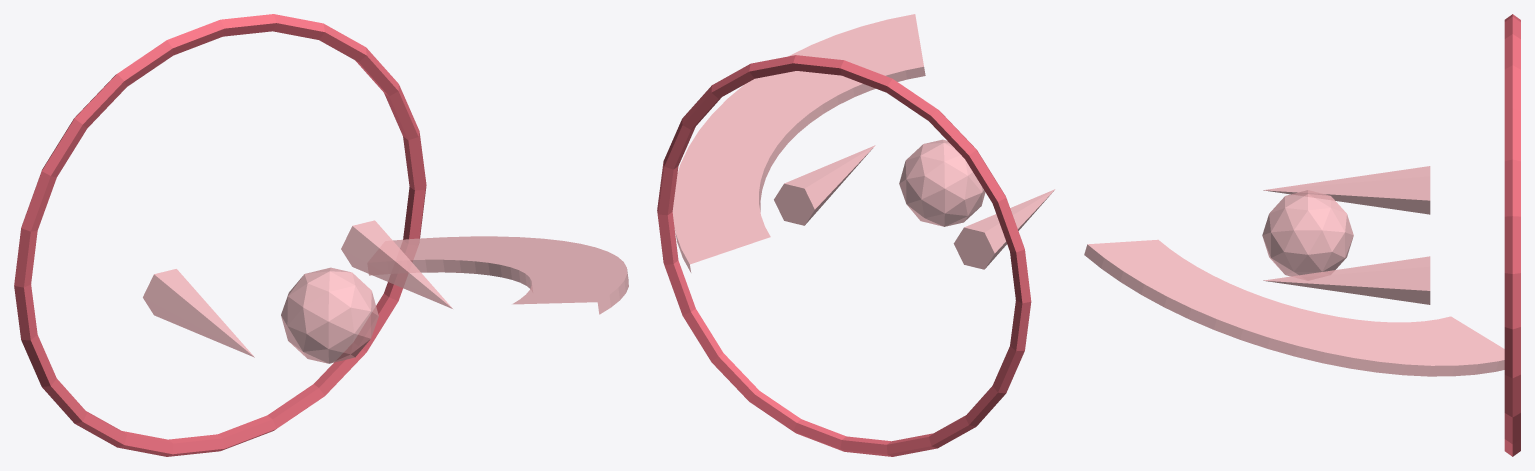
The model's file is 01_special_attack_vfx.glb.
3 renders of one model, left to right at view 1: azimuth 30°, elevation 25°; view 2: azimuth 150°, elevation 25°; view 3: azimuth 270°, elevation 25°, orthographic. The views are drawn at different scales.
Visible parts, largest first — view 1: impact_window_ring, combo_slash_or_magic_arc, timing_core, telegraph_spike_b, telegraph_spike_a; view 2: combo_slash_or_magic_arc, impact_window_ring, timing_core, telegraph_spike_b, telegraph_spike_a; view 3: combo_slash_or_magic_arc, impact_window_ring, timing_core, telegraph_spike_b, telegraph_spike_a.
Boxes of the visible parts, x1,y1,x2,y2 form: impact_window_ring: (14,14,426,456); combo_slash_or_magic_arc: (368,236,628,314); timing_core: (281,267,378,363); telegraph_spike_b: (341,220,452,308); telegraph_spike_a: (143,269,254,357); combo_slash_or_magic_arc: (672,14,925,272); impact_window_ring: (657,55,1031,456); timing_core: (899,139,985,226); telegraph_spike_b: (774,145,875,225); telegraph_spike_a: (953,189,1055,269); combo_slash_or_magic_arc: (1084,239,1504,376); impact_window_ring: (1504,14,1520,456); timing_core: (1262,190,1353,276); telegraph_spike_b: (1263,256,1430,304); telegraph_spike_a: (1263,166,1430,214).
Size of the model in its own units: 1.65 by 1.46 by 1.43.
